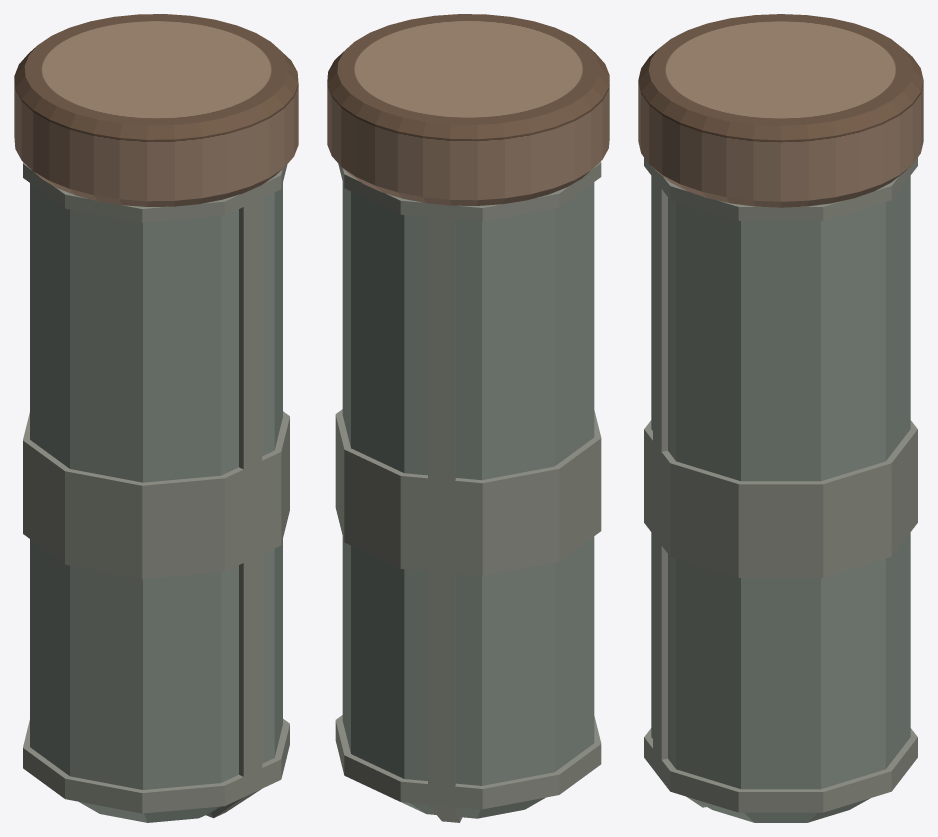
File: rageToxin 1.fbx
3 renders of one model, left to right at view 1: azimuth 30°, elevation 25°; view 2: azimuth 150°, elevation 25°; view 3: azimuth 270°, elevation 25°, orthographic.
Parts seen in each view (by area): view 1: Tube, Framework, Cylinder; view 2: Tube, Framework, Cylinder; view 3: Tube, Cylinder, Framework.
Part boxes in pixels (x1,y1,x2,y2): Tube: [30, 183, 282, 822]; Framework: [23, 162, 289, 818]; Cylinder: [14, 14, 298, 206]; Tube: [342, 182, 594, 818]; Framework: [335, 161, 601, 822]; Cylinder: [327, 14, 609, 205]; Tube: [651, 176, 910, 822]; Cylinder: [638, 14, 923, 207]; Framework: [644, 158, 917, 812].
Size of the model in its own units: 220 by 616 by 220.
